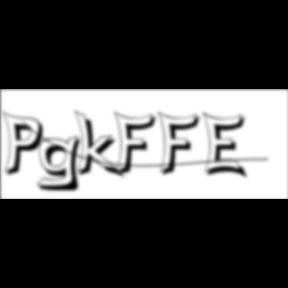E: (202, 110, 252, 182)
F: (114, 110, 162, 178), (158, 110, 206, 178)
P: (2, 110, 50, 180)
g: (37, 134, 89, 194)
k: (74, 108, 128, 181)
